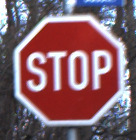stopsign: (12, 13, 128, 127)
